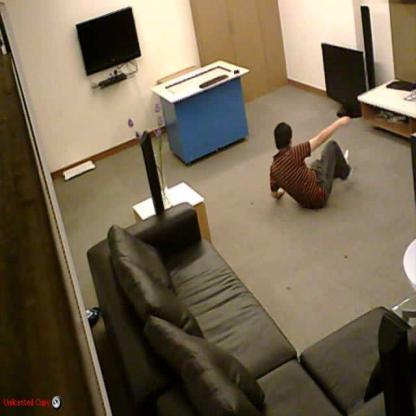Person: (270, 116, 353, 210)
